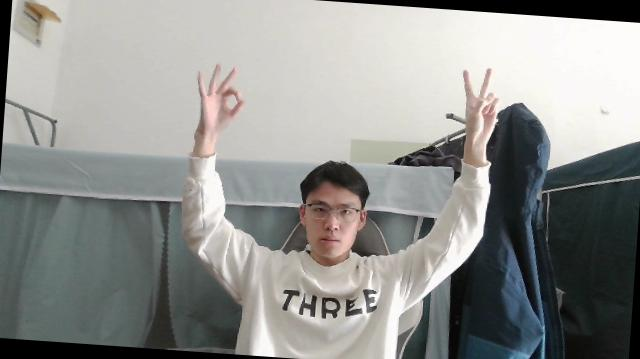ok: (191, 59, 246, 136)
two: (456, 64, 502, 148)
